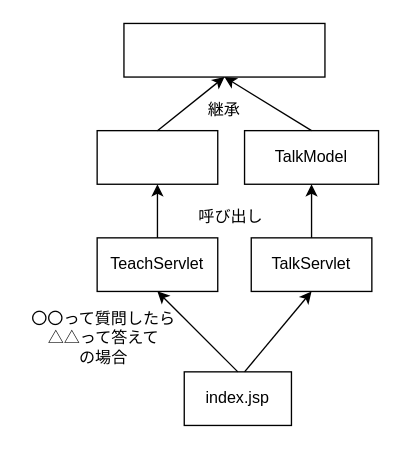
Image size: 402x449. Some labels were removed from this diagram. Here are the shapes that lost their labels. From the top down, the centre of each, then its label:
At [224,49]: "AnswerModelAbstract".
At [157,156]: "TeachModel".
